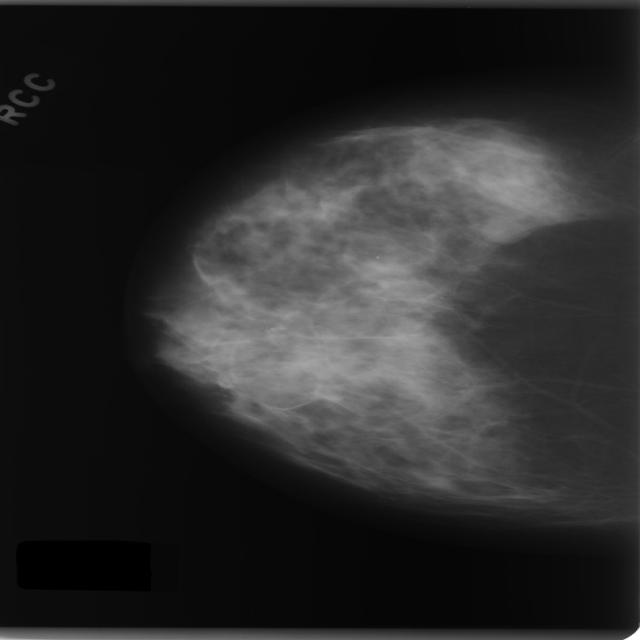tumour: (474, 214, 530, 243)
